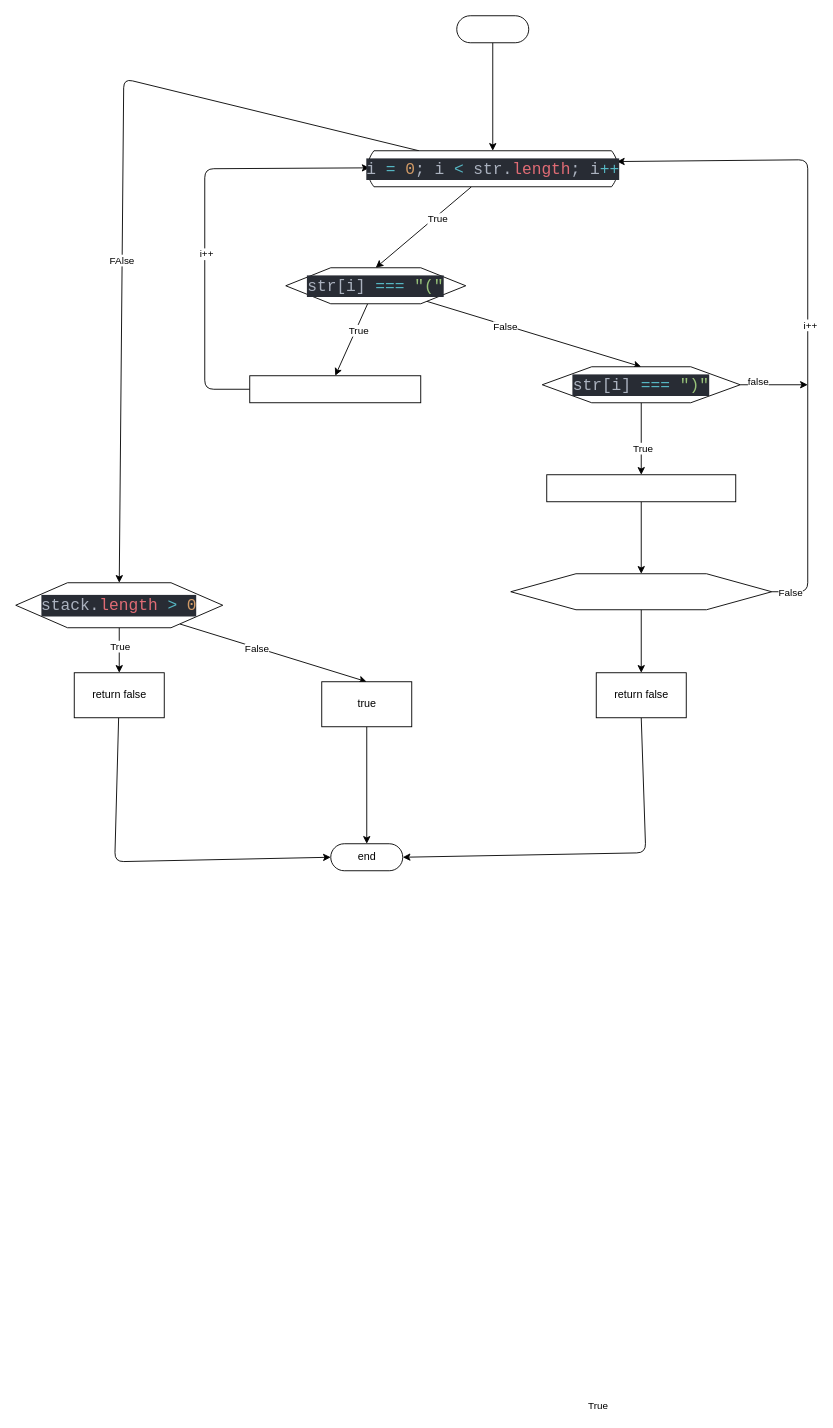
The diagram is 833 pixels wide and 1428 high, and some of its shapes have lost their labels. The centre of each missing label's shape, as x and y in pixels:
"lastEl = stack. pop ();" goes at (641,488).
"lastEl === undefined" goes at (641,591).
"stack. push (str[i]);" goes at (335,389).
"start" goes at (492,29).
